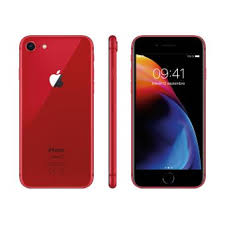iphone: (130, 32, 205, 191), (18, 29, 93, 188)
iphone8: (18, 31, 93, 190), (130, 32, 205, 191)
